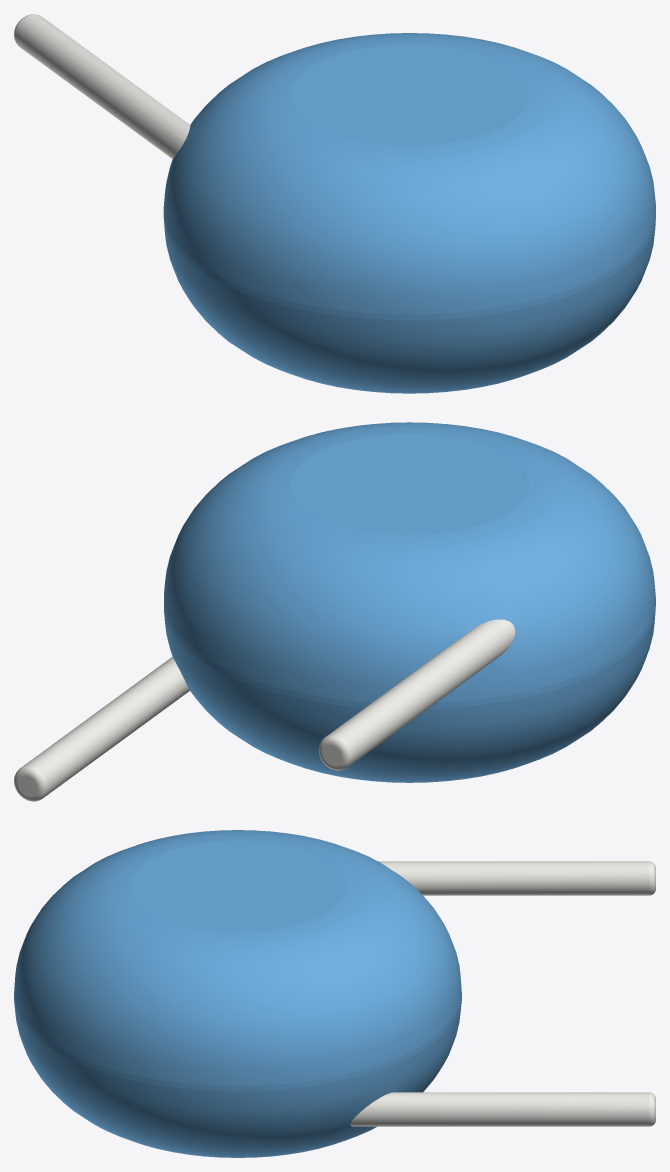
File: RV_Disc_D7mm_W3.7mm_P5mm.glb
The picture shows the model from 3 angles, top to bottom: view 1: azimuth 30°, elevation 25°; view 2: azimuth 150°, elevation 25°; view 3: azimuth 270°, elevation 25°; orthographic projection. The views are drawn at different scales.
Parts seen in each view (by area): view 1: Shape_IndexedFaceSet.001, Shape_IndexedFaceSet.002, Shape_IndexedFaceSet.003, Shape_IndexedFaceSet.004, Shape_IndexedFaceSet; view 2: Shape_IndexedFaceSet.001, Shape_IndexedFaceSet.002, Shape_IndexedFaceSet.003, Shape_IndexedFaceSet.004, Shape_IndexedFaceSet.006, Shape_IndexedFaceSet, Shape_IndexedFaceSet.008, Shape_IndexedFaceSet.007; view 3: Shape_IndexedFaceSet.001, Shape_IndexedFaceSet.002, Shape_IndexedFaceSet.003, Shape_IndexedFaceSet.006, Shape_IndexedFaceSet.004, Shape_IndexedFaceSet.
Boxes of the visible parts, x1,y1,x2,y2 form: Shape_IndexedFaceSet.001: (163,33,655,314); Shape_IndexedFaceSet.002: (163,218,655,393); Shape_IndexedFaceSet.003: (291,44,529,145); Shape_IndexedFaceSet.004: (15,14,190,158); Shape_IndexedFaceSet: (163,212,655,320); Shape_IndexedFaceSet.001: (164,422,655,702); Shape_IndexedFaceSet.002: (164,606,655,782); Shape_IndexedFaceSet.003: (290,434,528,534); Shape_IndexedFaceSet.004: (326,619,515,766); Shape_IndexedFaceSet.006: (22,657,189,797); Shape_IndexedFaceSet: (164,600,655,708); Shape_IndexedFaceSet.008: (14,766,47,801); Shape_IndexedFaceSet.007: (318,735,352,770); Shape_IndexedFaceSet.001: (14,830,461,1085); Shape_IndexedFaceSet.002: (14,1000,461,1157); Shape_IndexedFaceSet.003: (129,841,346,932); Shape_IndexedFaceSet.006: (350,1092,649,1126); Shape_IndexedFaceSet.004: (378,861,649,895); Shape_IndexedFaceSet: (14,995,461,1091).
Size of the model in its own units: 2.75 by 1.46 by 3.95.
